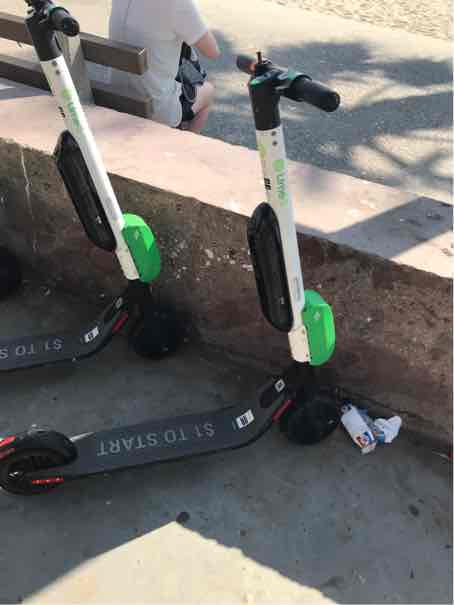scooter: (2, 48, 350, 497), (2, 1, 191, 372)
